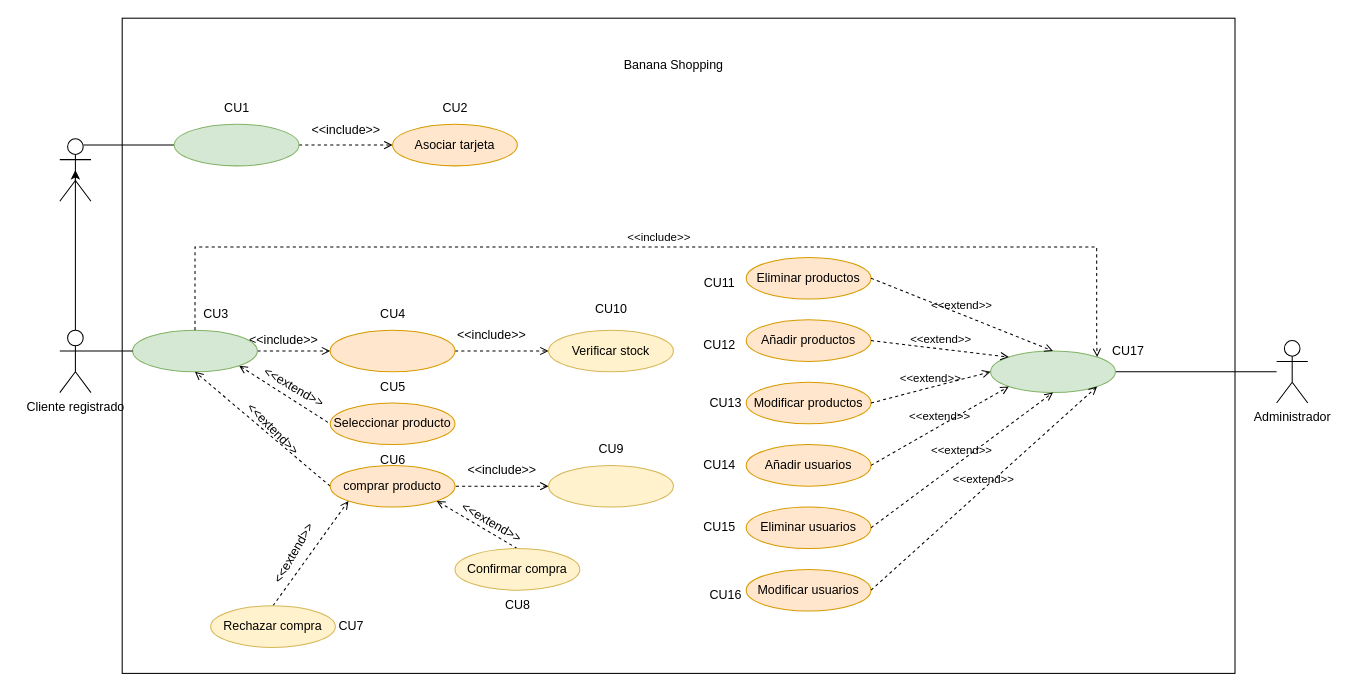
The diagram is 1349 pixels wide and 692 high, and some of its shapes have lost their labels. The shapes that lost their labels are listed below. From the top down, each one's centre as x and y in pixels, then its label:
At (x=236, y=144): "Registrarse".
At (x=75, y=169): "Cliente no registrado".
At (x=194, y=350): "Realizar pedido".
At (x=392, y=350): "Mostrar producto".
At (x=1052, y=371): "Autenticarse".
At (x=610, y=485): "Verificar saldo".
